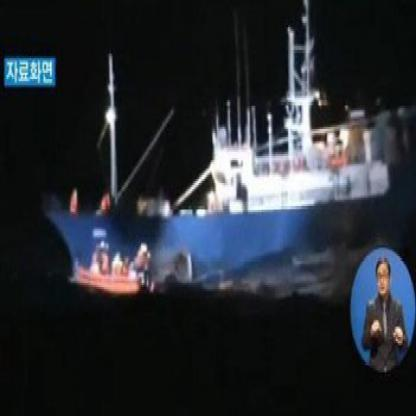Ship: (38, 3, 416, 303)
